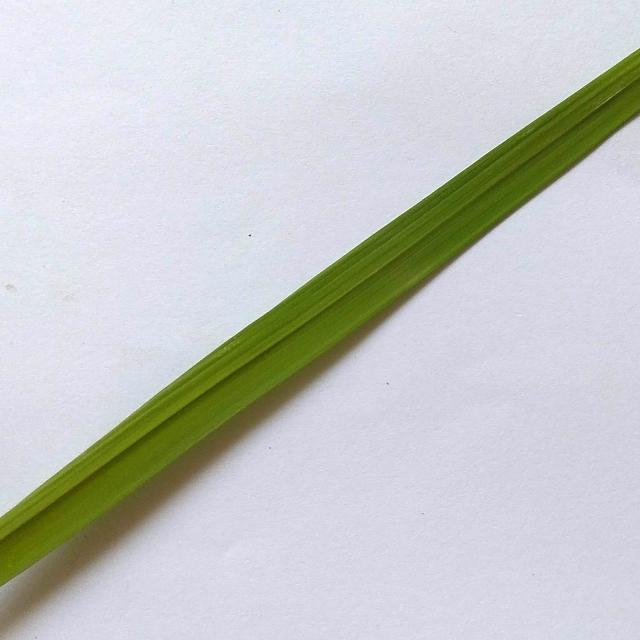Rice_Healthy: (0, 49, 640, 585)
